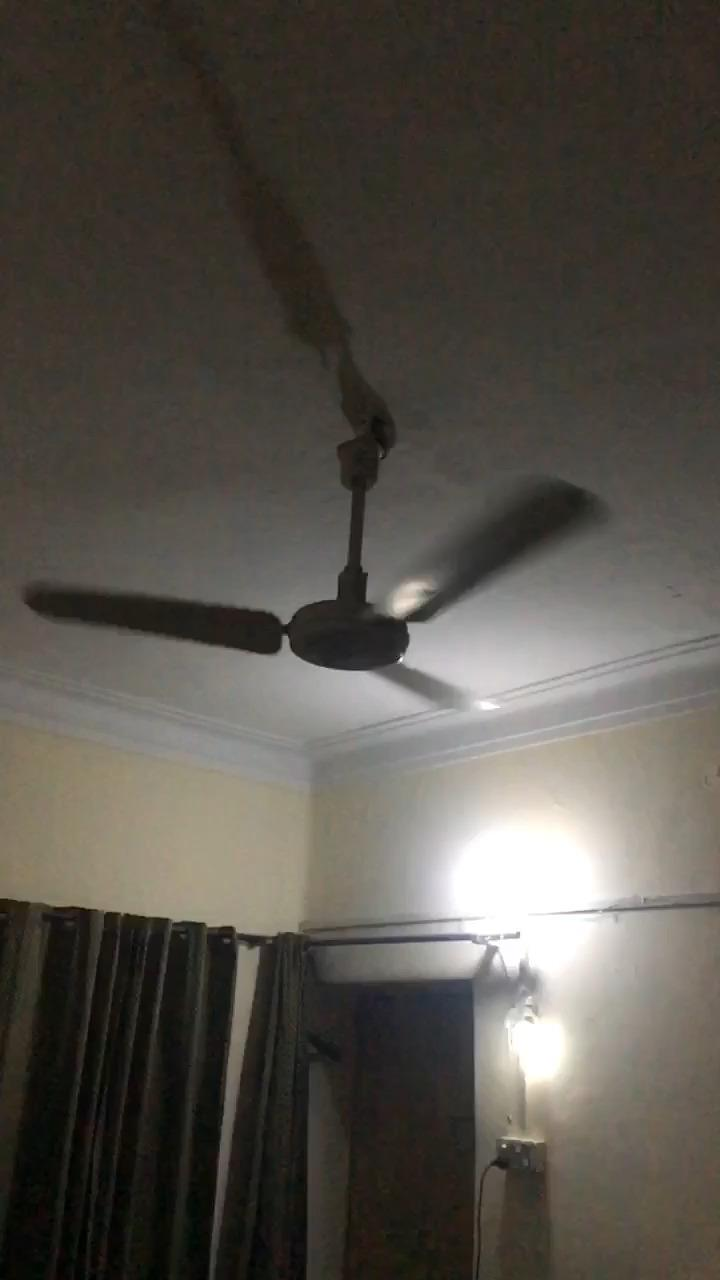fan: (28, 468, 622, 728)
